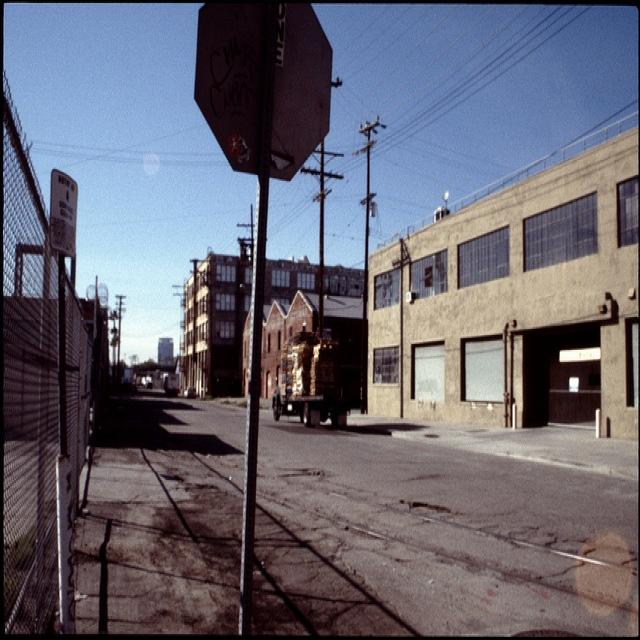pole: (233, 6, 279, 630), (357, 120, 375, 411)
truck: (269, 331, 351, 426), (161, 371, 179, 395)
